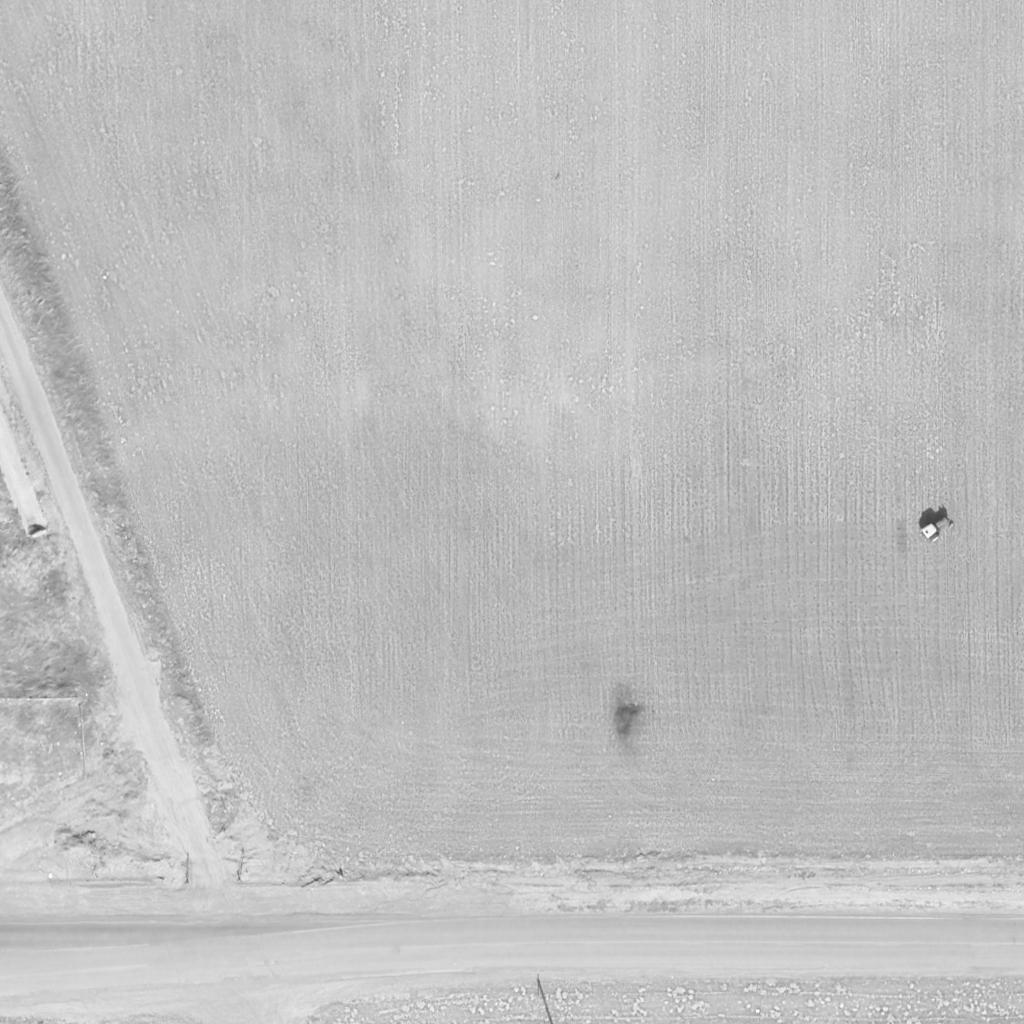vehicle: (917, 511, 957, 545)
